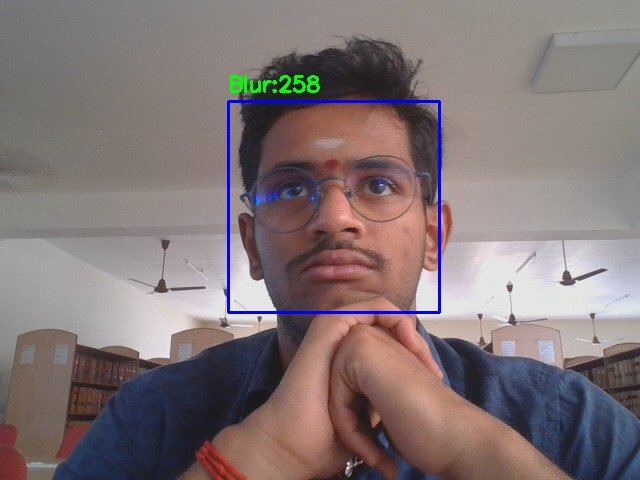real: (228, 101, 439, 312)
